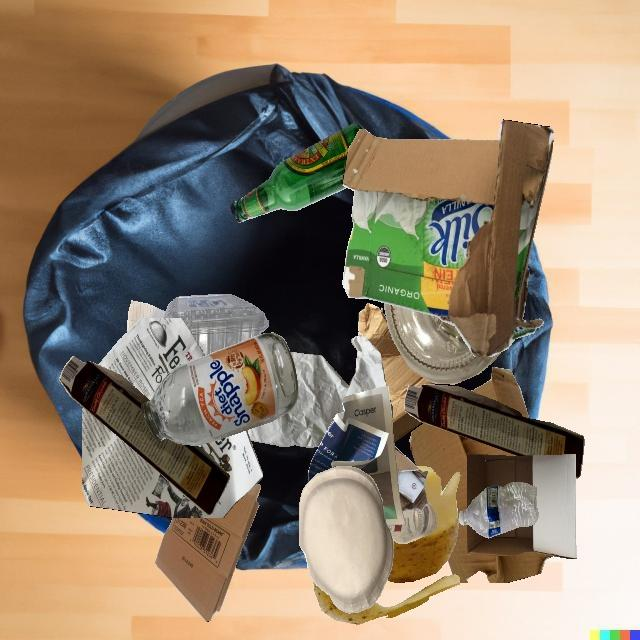biowaste: (387, 466, 460, 583), (313, 574, 459, 625)
cardboard: (342, 119, 554, 357), (59, 356, 229, 515), (410, 423, 552, 583), (404, 384, 585, 478), (155, 483, 261, 621), (467, 453, 576, 558), (358, 303, 435, 443), (394, 445, 428, 511)
glass: (141, 332, 299, 445), (230, 124, 364, 223), (384, 303, 501, 384), (388, 503, 437, 544)
paper: (82, 407, 263, 518), (247, 335, 386, 447), (299, 466, 394, 613), (308, 386, 405, 525), (98, 318, 205, 401), (127, 301, 166, 332)
plastic: (164, 294, 269, 356), (459, 482, 539, 538)
